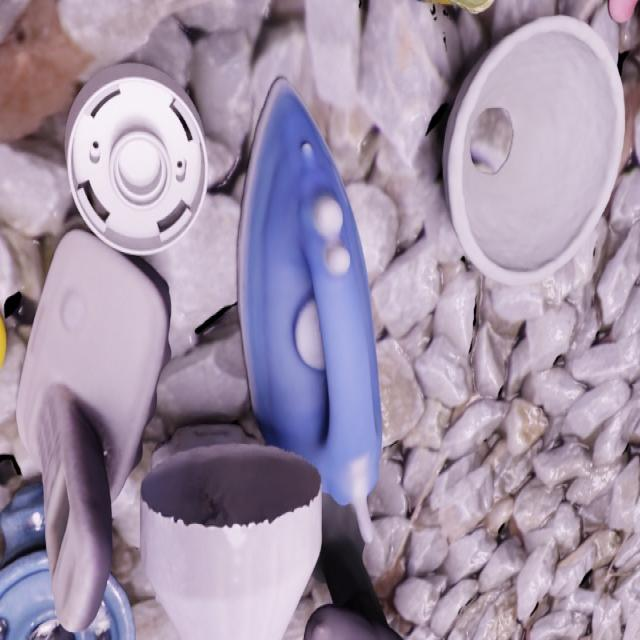Other Objects: (16, 228, 169, 631), (238, 80, 381, 505), (443, 17, 624, 284), (141, 440, 322, 640), (66, 65, 207, 255)
